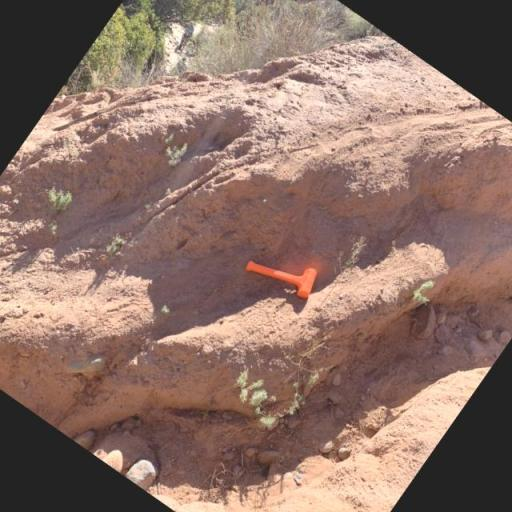mallet: (242, 235, 324, 308)
